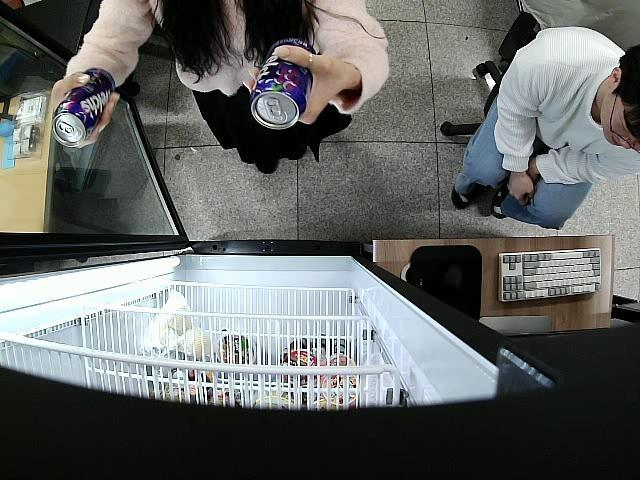14_welchsGrape: (248, 37, 317, 130), (51, 68, 116, 146)
